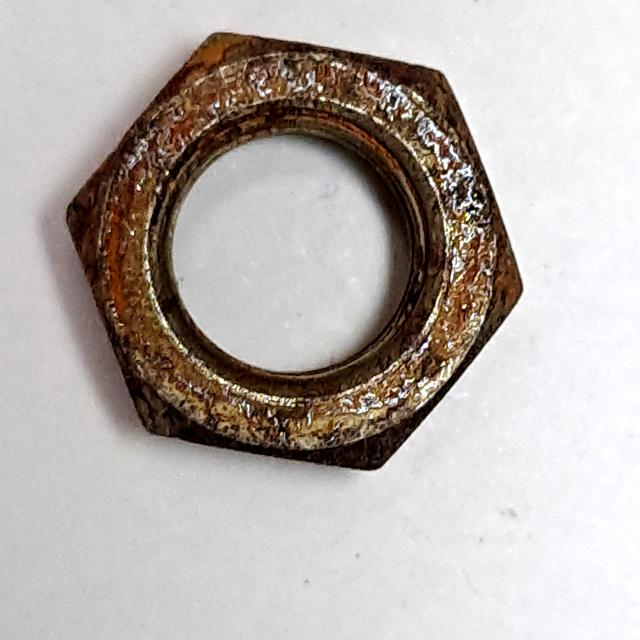Rust: (57, 19, 536, 484)
